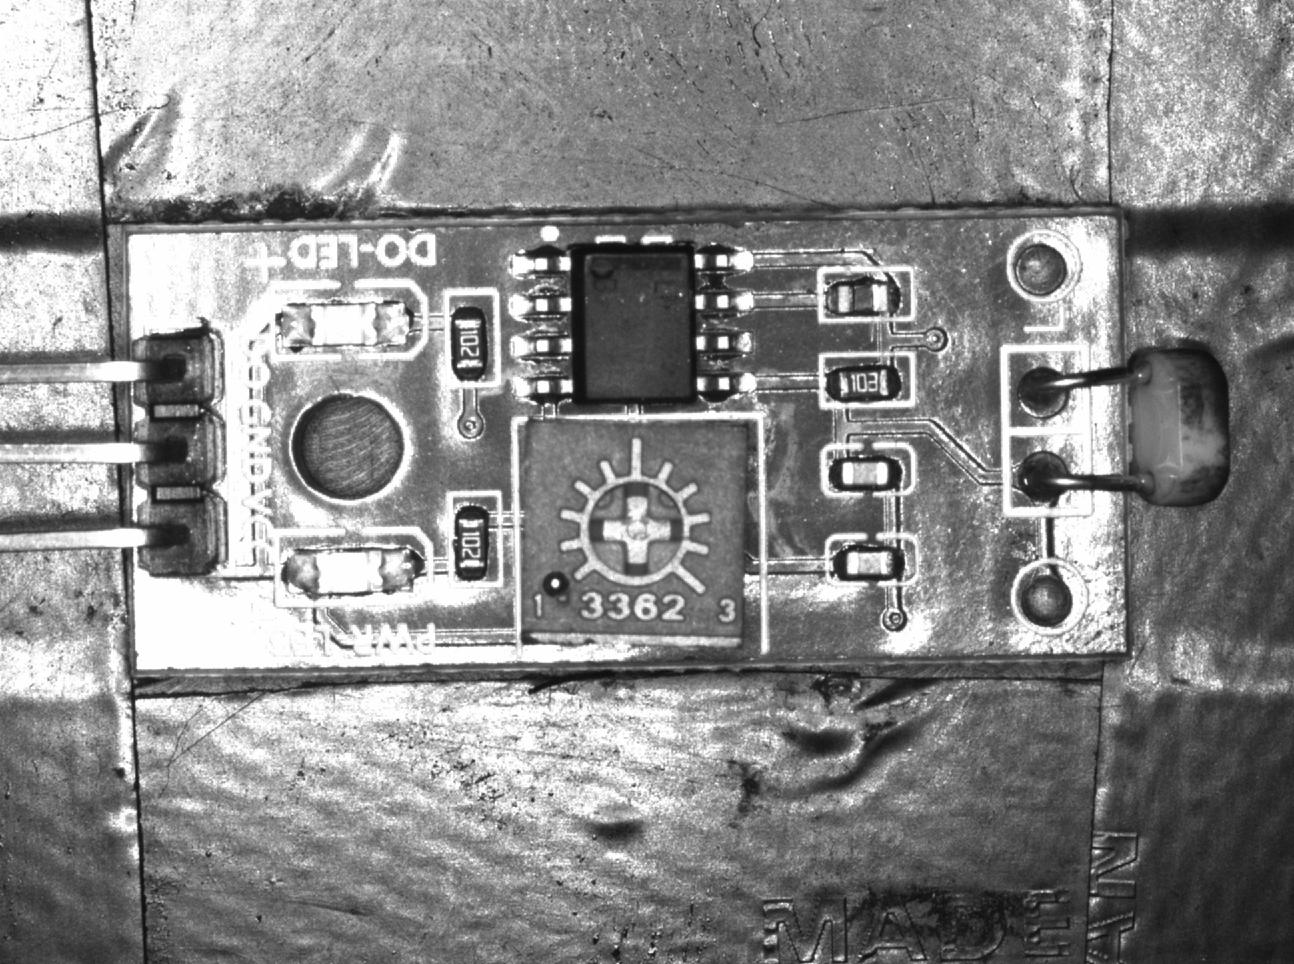miss: (818, 268, 915, 323)
ok: (448, 490, 504, 589), (444, 290, 499, 389), (824, 533, 916, 588), (820, 356, 916, 405), (823, 445, 914, 495)
